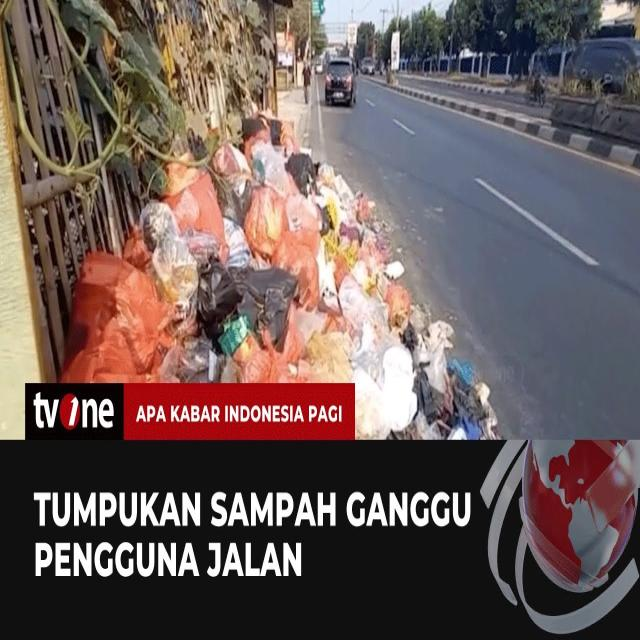trash: (72, 106, 446, 377)
